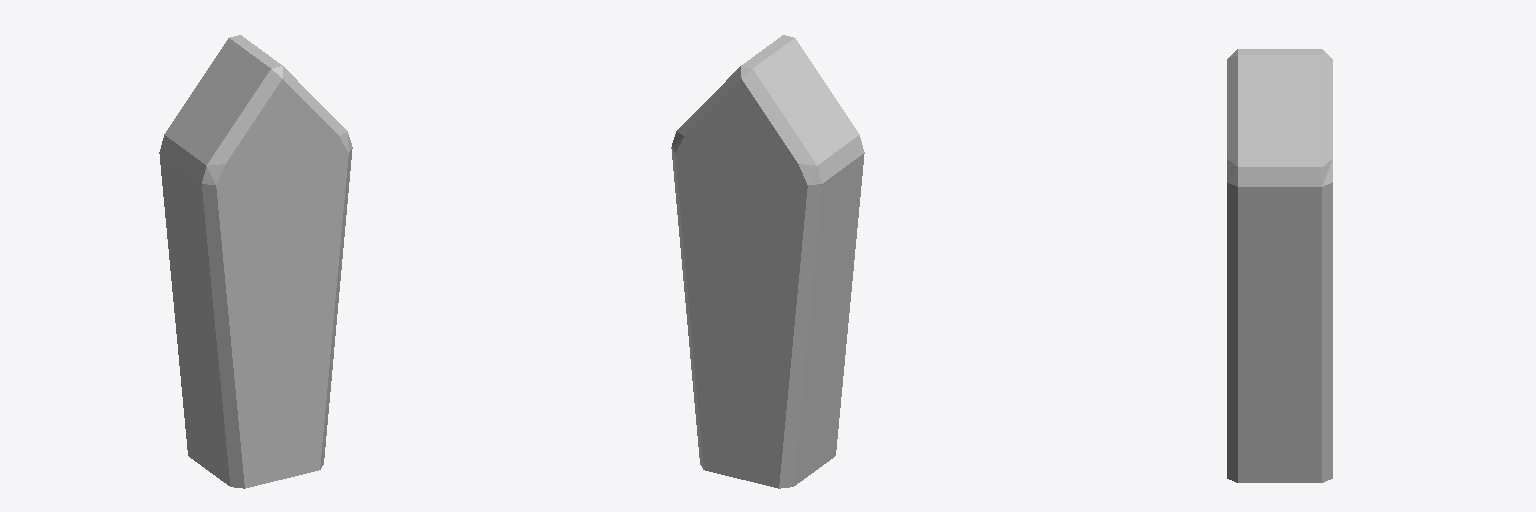
The model's file is fence_post.obj.
3 renders of one model, left to right at view 1: azimuth 30°, elevation 25°; view 2: azimuth 150°, elevation 25°; view 3: azimuth 270°, elevation 25°, orthographic.
Visible parts, largest first — view 1: fence_post; view 2: fence_post; view 3: fence_post.
Boxes of the visible parts, x1,y1,x2,y2 form: fence_post: [159, 35, 352, 488]; fence_post: [671, 35, 864, 488]; fence_post: [1227, 49, 1332, 482].
Size of the model in its own units: 0.494 by 1.28 by 0.3.